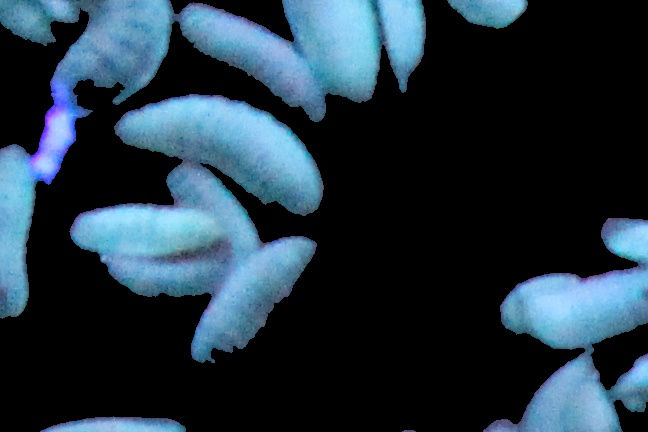larvae: (119, 90, 321, 218), (189, 236, 318, 369), (181, 4, 325, 115), (488, 259, 648, 348), (57, 1, 180, 94), (283, 1, 380, 105), (71, 203, 235, 254), (164, 165, 260, 247), (1, 138, 42, 316), (104, 248, 235, 299), (379, 1, 435, 93)
